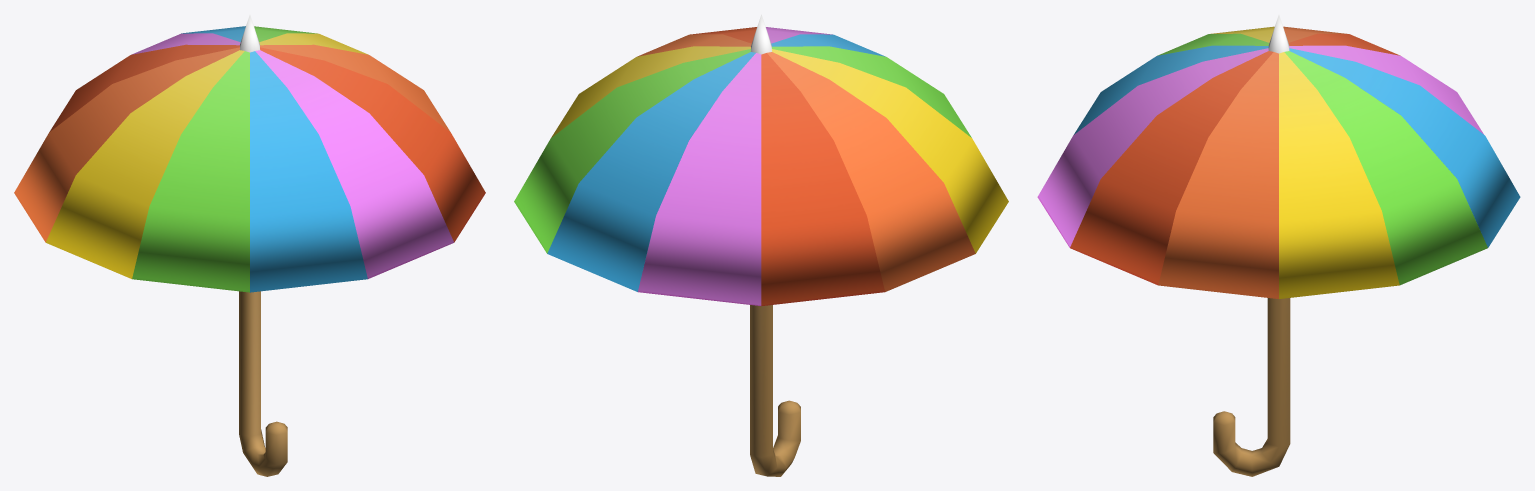
File: umbrella.FBX
3 renders of one model, left to right at view 1: azimuth 30°, elevation 25°; view 2: azimuth 150°, elevation 25°; view 3: azimuth 270°, elevation 25°, orthographic. The views are drawn at different scales.
Visible parts, largest first — view 1: umbrella; view 2: umbrella; view 3: umbrella.
Part boxes in pixels (box(x1,y1,x2,y2)): umbrella: box(14, 15, 485, 476); umbrella: box(514, 14, 1008, 476); umbrella: box(1037, 15, 1520, 476).
Bounding box in the file's own units: 41.14 × 43.25 × 41.14.
